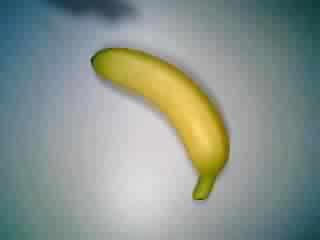banana: (87, 44, 232, 201)
